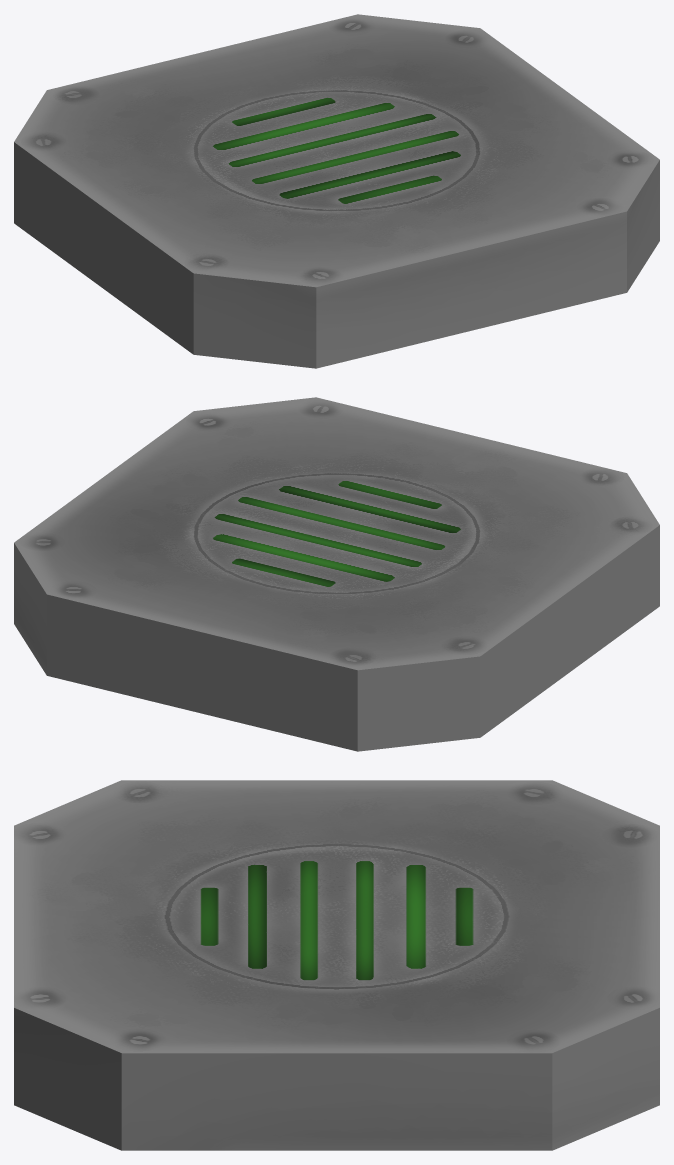
Rendered from Floor Plates Drain.fbx.
The picture shows the model from 3 angles, top to bottom: view 1: azimuth 30°, elevation 25°; view 2: azimuth 150°, elevation 25°; view 3: azimuth 270°, elevation 25°; orthographic projection. The views are drawn at different scales.
Parts seen in each view (by area): view 1: Floor Plate Drain; view 2: Floor Plate Drain; view 3: Floor Plate Drain.
Boxes of the visible parts, x1,y1,x2,y2 form: Floor Plate Drain: (14,14,659,368); Floor Plate Drain: (14,397,659,751); Floor Plate Drain: (14,780,659,1150).
Size of the model in its own units: 3 by 0.5 by 3.
